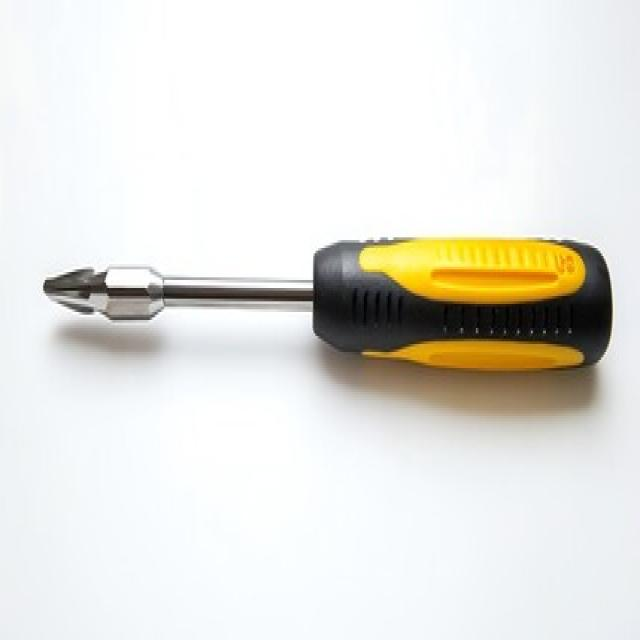screwdriver: (42, 232, 613, 371)
